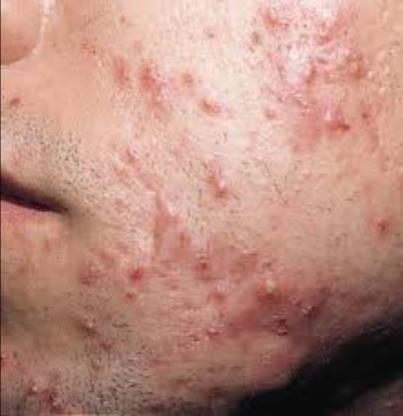Blackheads: (372, 215, 397, 243), (192, 254, 221, 277)
pustules: (249, 268, 285, 302), (190, 90, 222, 117), (313, 106, 340, 138), (201, 172, 235, 197), (77, 312, 106, 337), (291, 60, 320, 85), (344, 57, 373, 80), (260, 3, 287, 24), (23, 378, 44, 399)
